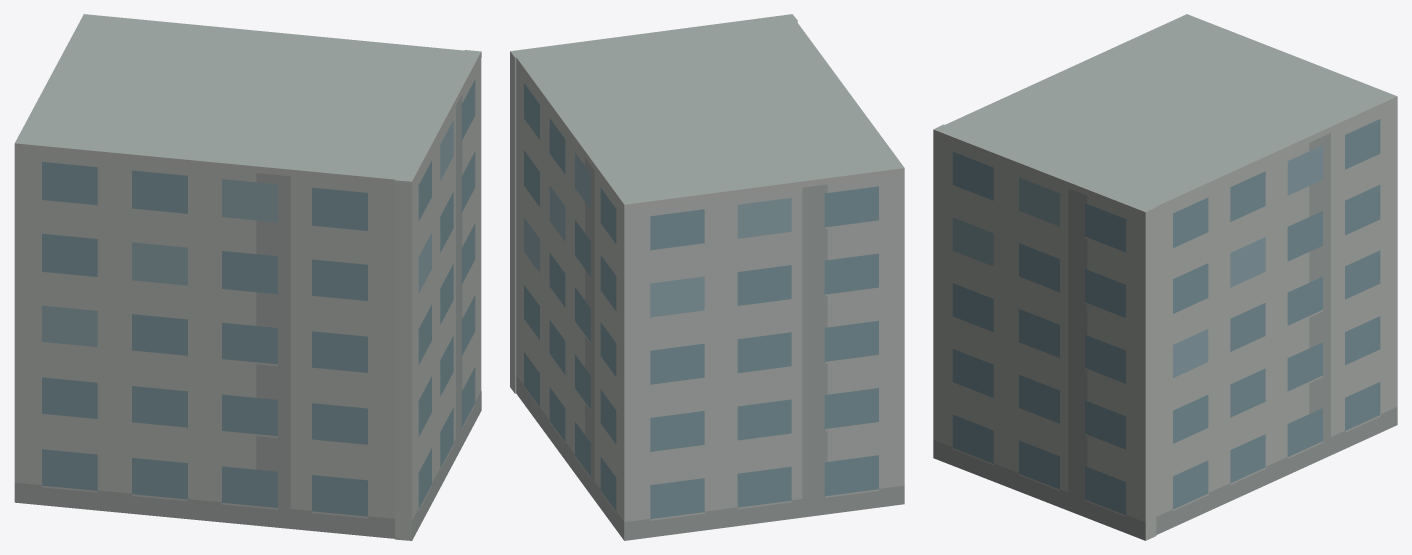
Rendered from survey-upis-32892485.glb.
The picture shows the model from 3 angles, left to right: view 1: azimuth 30°, elevation 25°; view 2: azimuth 150°, elevation 25°; view 3: azimuth 270°, elevation 25°; orthographic projection. The views are drawn at different scales.
Parts seen in each view (by area): view 1: survey-upis-32892485.tmp; view 2: survey-upis-32892485.tmp; view 3: survey-upis-32892485.tmp.
Part boxes in pixels (x1=…): survey-upis-32892485.tmp: x1=14, y1=14, x2=481, y2=540; survey-upis-32892485.tmp: x1=510, y1=14, x2=904, y2=540; survey-upis-32892485.tmp: x1=933, y1=14, x2=1397, y2=540.
Bounding box in the file's own units: 17.09 × 13.2 × 16.91.
